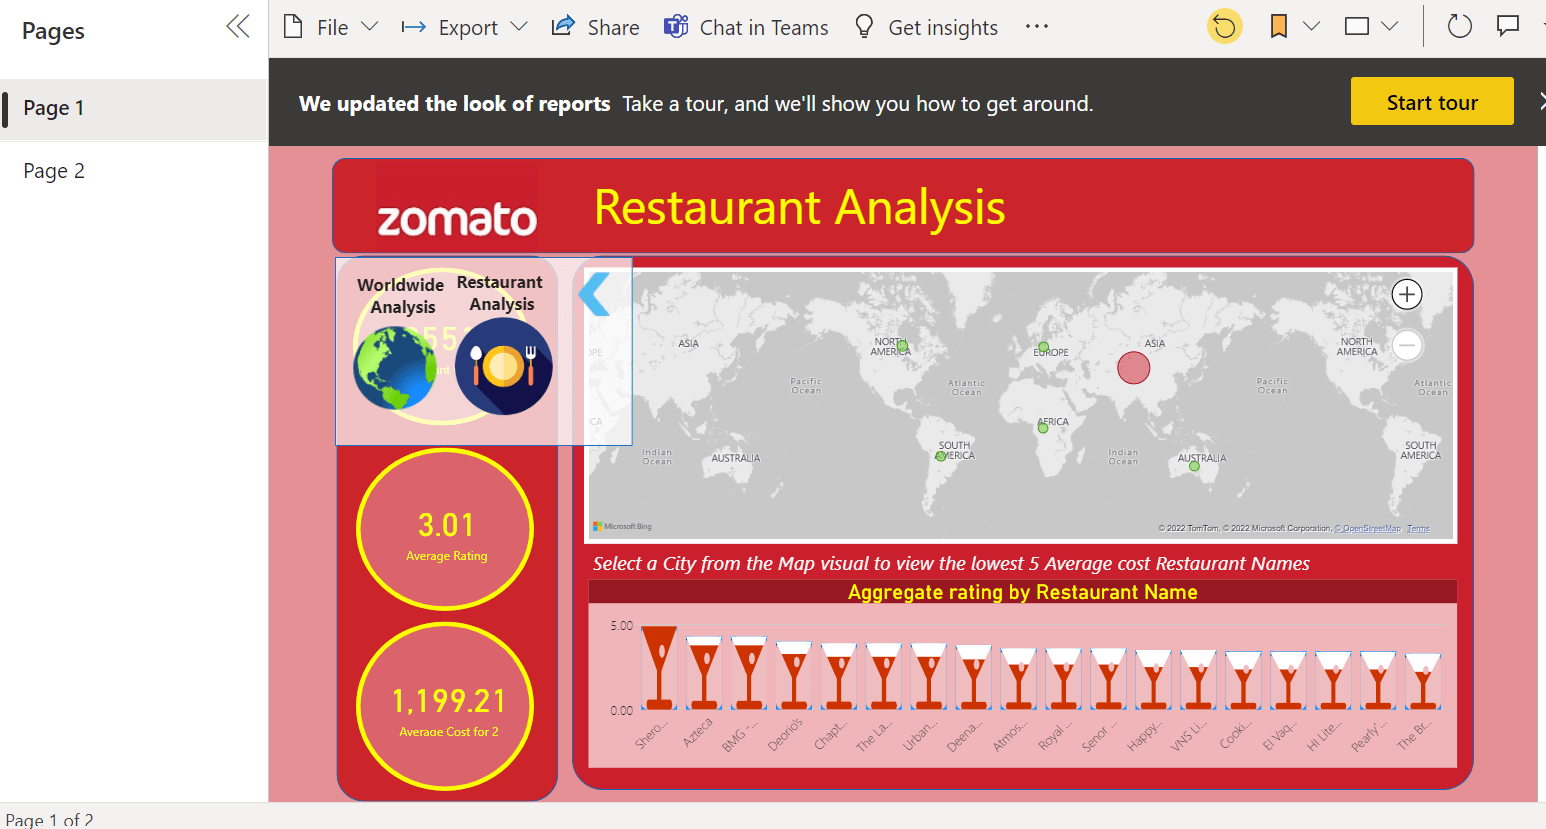

This screenshot's page, from the dashboard's own definition file:
{"tool":"powerbi","page":{"name":"Worldwide","canvas":[1280,720],"ordinal":0},"visuals":[{"type":"shape","box":[276.6,120.8,990.2,586.5],"z":0},{"type":"map","fields":{"Category":["Zomato Restaurants.Continent Hierarchy.Continent","Zomato Restaurants.Continent Hierarchy.Country","Zomato Restaurants.Continent Hierarchy.City"],"Size":["KPIs.Restaurant Count"]},"box":[289.3,133.5,958.4,303.6],"z":1000},{"type":"PBI_CV_73744D90_4DC9_4F18_8BA5_EE8FA5C98035","fields":{"Category":["Zomato Restaurants.Restaurant Name"],"Values":["Sum(KPIs.Aggregate rating)"]},"box":[294,475.2,953.6,206.6],"z":2000},{"type":"shape","box":[12.7,12.7,1254,104.9],"z":3000},{"type":"shape","box":[17.5,120.8,243.2,599.2],"z":4000},{"type":"shape","box":[36.6,133.5,195.5,173.2],"z":5000},{"type":"textbox","box":[294,22.3,693,84.2],"z":6000},{"type":"image","box":[0,12.7,300.4,108.1],"z":7000},{"type":"shape","box":[39.7,330.6,195.5,179.6],"z":8000},{"type":"shape","box":[39.7,521.3,195.5,186],"z":9000},{"type":"card","fields":{"Values":["KPIs.Restaurant Count"]},"box":[63.6,166.9,133.5,101.7],"z":10000},{"type":"card","fields":{"Values":["KPIs.Average Rating"]},"box":[73.1,354.4,133.5,133.5],"z":11000},{"type":"card","fields":{"Values":["KPIs.Average Cost for 2"]},"box":[63.6,577,154.2,76.3],"z":12000},{"type":"image","title":"Open Arrow","box":[17.5,120.8,55.6,55.6],"z":14000},{"type":"textbox","title":"WW Text","box":[294,437.1,958.4,46.1],"z":18000}]}

Visuals, with their boxes on the page's 1280x720 design canvas (x1, y1, x2, y2). These are canvas units, not pixel positions in the 1546x829 screenshot, which may show the page scaled, cropped or inside an application window:
shape: region(277, 121, 1267, 707)
map - Zomato Restaurants.Continent Hierarchy.Continent x Zomato Restaurants.Continent Hierarchy.Country: region(289, 134, 1248, 437)
PBI_CV_73744D90_4DC9_4F18_8BA5_EE8FA5C98035 - Zomato Restaurants.Restaurant Name x Sum(KPIs.Aggregate rating): region(294, 475, 1248, 682)
shape: region(13, 13, 1267, 118)
shape: region(18, 121, 261, 720)
shape: region(37, 134, 232, 307)
textbox: region(294, 22, 987, 106)
image: region(0, 13, 300, 121)
shape: region(40, 331, 235, 510)
shape: region(40, 521, 235, 707)
card - KPIs.Restaurant Count: region(64, 167, 197, 269)
card - KPIs.Average Rating: region(73, 354, 207, 488)
card - KPIs.Average Cost for 2: region(64, 577, 218, 653)
"Open Arrow" image: region(18, 121, 73, 176)
"WW Text" textbox: region(294, 437, 1252, 483)
